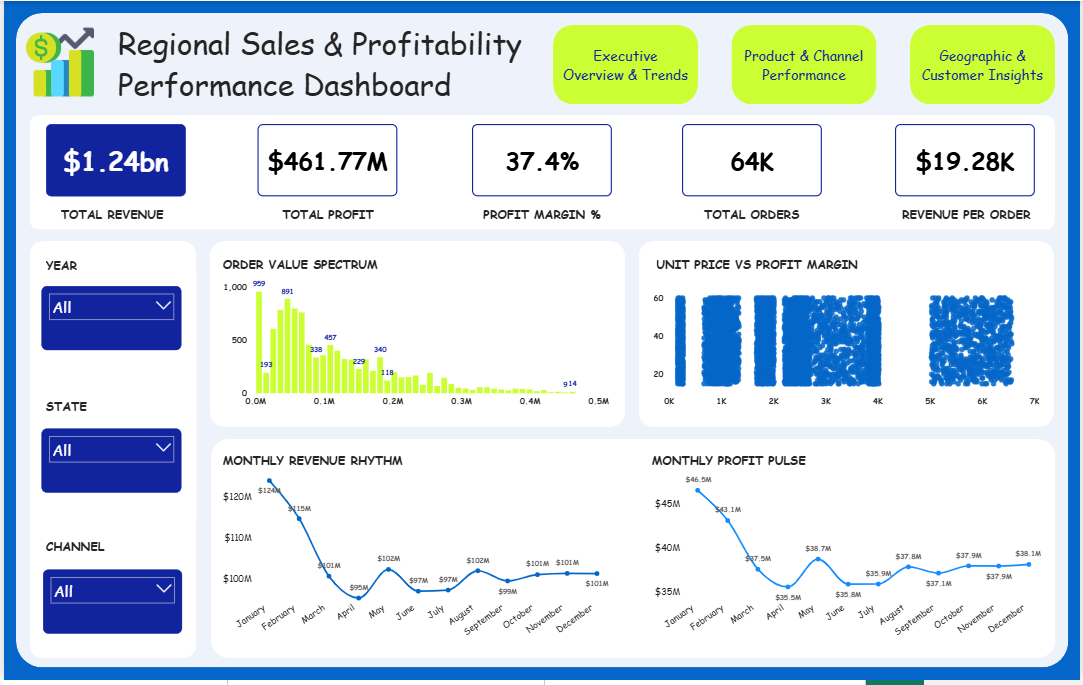

This screenshot's page, from the dashboard's own definition file:
{"tool":"powerbi","page":{"name":"Executive Overview & Trends","canvas":[1932,1220],"ordinal":0},"visuals":[{"type":"shape","box":[22.7,22.7,1890.9,1176],"z":0},{"type":"textbox","box":[388.1,805.9,355.8,56.6],"z":0,"group":"g2"},{"type":"image","box":[21.2,33.3,157.6,154.5],"z":1000,"group":"g3"},{"type":"shape","box":[45.5,206.1,1842.4,206.1],"z":1000},{"type":"lineChart","fields":{"Category":["Sales_data.order_month_name"],"Y":["Measures_.Total Revenue"]},"box":[388.1,840.9,703.4,320.7],"z":1000,"group":"g2"},{"type":"textbox","box":[200,33.3,824.2,172.7],"z":2000,"group":"g3"},{"type":"textbox","box":[97.7,363.6,206.1,48.5],"z":2000},{"type":"lineChart","fields":{"Category":["Sales_data.order_month_name"],"Y":["Measures_.Total Profit"]},"box":[1164.3,840.9,703.4,320.7],"z":2000,"group":"g2"},{"type":"group","id":"g1","title":"Group 1","box":[984.8,45.4,903,142.4],"z":3000,"group":"g3"},{"type":"actionButton","box":[984.8,45.4,260.6,142.4],"z":3000,"group":"g1"},{"type":"textbox","box":[851.7,363.9,229.1,48.5],"z":3000},{"type":"textbox","box":[1158.9,805.9,355.8,56.6],"z":3000,"group":"g2"},{"type":"actionButton","box":[1627.2,45.4,260.6,142.4],"z":4000,"group":"g1"},{"type":"textbox","box":[1595.6,363.9,266.8,45.8],"z":4000},{"type":"actionButton","box":[1306,45.4,260.6,142.4],"z":5000,"group":"g1"},{"type":"textbox","box":[479.7,363.9,204.8,48.5],"z":5000},{"type":"textbox","box":[1239.8,363.9,207.5,48.5],"z":6000},{"type":"card","fields":{"Values":["Measures_.Total Revenue"]},"box":[75,221.2,251.5,130.3],"z":7000},{"type":"card","fields":{"Values":["Measures_.Total Profit"]},"box":[456.4,221.2,251.5,130.3],"z":8000},{"type":"card","fields":{"Values":["Measures_.Profit Margin %"]},"box":[840.2,221.2,251.5,130.3],"z":9000},{"type":"card","fields":{"Values":["Measures_.Total Orders"]},"box":[1219.3,221.2,251.5,130.3],"z":10000},{"type":"card","fields":{"Values":["Measures_.Revenue per order"]},"box":[1600.8,221.2,251.5,130.3],"z":11000},{"type":"shape","box":[45,430,300,750],"z":12000},{"type":"textbox","box":[70.1,455.5,134.8,56.6],"z":13000},{"type":"slicer","fields":{"Values":["Sales_data.channel"]},"box":[69,1021.5,250,115],"z":14000},{"type":"textbox","box":[70.1,959.5,134.8,62],"z":15000},{"type":"slicer","fields":{"Values":["Sales_data.year"]},"box":[68.3,512.1,251.5,115.2],"z":16000},{"type":"textbox","box":[70.1,708.8,134.8,59.3],"z":17000},{"type":"slicer","fields":{"Values":["Sales_data.state_name"]},"box":[68.3,766.8,251.5,115.2],"z":18000},{"type":"shape","box":[371.9,787,1517.4,393.5],"z":19000},{"type":"shape","box":[369.2,431.2,746.6,334.2],"z":20000},{"type":"shape","box":[1140.1,431.2,746.6,334.2],"z":21000},{"type":"textbox","box":[388.1,452.8,355.8,56.6],"z":22000},{"type":"textbox","box":[1167,452.8,433.9,56.6],"z":23000},{"type":"group","id":"g2","title":"Group 2","box":[388.1,805.9,1479.7,355.8],"z":24000},{"type":"columnChart","fields":{"Category":["Order_Value_Distribution.OrderValue (bins)"],"Y":["CountNonNull(Order_Value_Distribution.order_number)"]},"box":[388.1,485.1,703.4,253.3],"z":25000},{"type":"scatterChart","fields":{"Y":["Sales_data.profit_margin_pct"],"X":["Sales_data.unit_price"]},"box":[1161.6,485.1,703.4,253.3],"z":26000},{"type":"group","id":"g3","title":"Group 3","box":[21.2,33.3,1866.7,172.7],"z":27000}]}

Visuals, with their boxes in screenshot pixels (x1, y1, x2, y2), scaled from the page's 1932x1220 canvas onto the 1083x685 screenshot:
shape: 13/13/1073/673
textbox: 218/452/417/484
image: 12/19/100/105
shape: 26/116/1058/231
lineChart - Sales_data.order_month_name x Measures_.Total Revenue: 218/472/612/652
textbox: 112/19/574/116
textbox: 55/204/170/231
lineChart - Sales_data.order_month_name x Measures_.Total Profit: 653/472/1047/652
"Group 1" group: 552/25/1058/105
actionButton: 552/25/698/105
textbox: 477/204/606/232
textbox: 650/452/849/484
actionButton: 912/25/1058/105
textbox: 894/204/1044/230
actionButton: 732/25/878/105
textbox: 269/204/384/232
textbox: 695/204/811/232
card - Measures_.Total Revenue: 42/124/183/197
card - Measures_.Total Profit: 256/124/397/197
card - Measures_.Profit Margin %: 471/124/612/197
card - Measures_.Total Orders: 683/124/824/197
card - Measures_.Revenue per order: 897/124/1038/197
shape: 25/241/193/663
textbox: 39/256/115/288
slicer - Sales_data.channel: 39/574/179/638
textbox: 39/539/115/574
slicer - Sales_data.year: 38/288/179/352
textbox: 39/398/115/431
slicer - Sales_data.state_name: 38/431/179/495
shape: 208/442/1059/663
shape: 207/242/625/430
shape: 639/242/1058/430
textbox: 218/254/417/286
textbox: 654/254/897/286
"Group 2" group: 218/452/1047/652
columnChart - Order_Value_Distribution.OrderValue (bins) x CountNonNull(Order_Value_Distribution.order_number): 218/272/612/415
scatterChart - Sales_data.profit_margin_pct x Sales_data.unit_price: 651/272/1045/415
"Group 3" group: 12/19/1058/116
